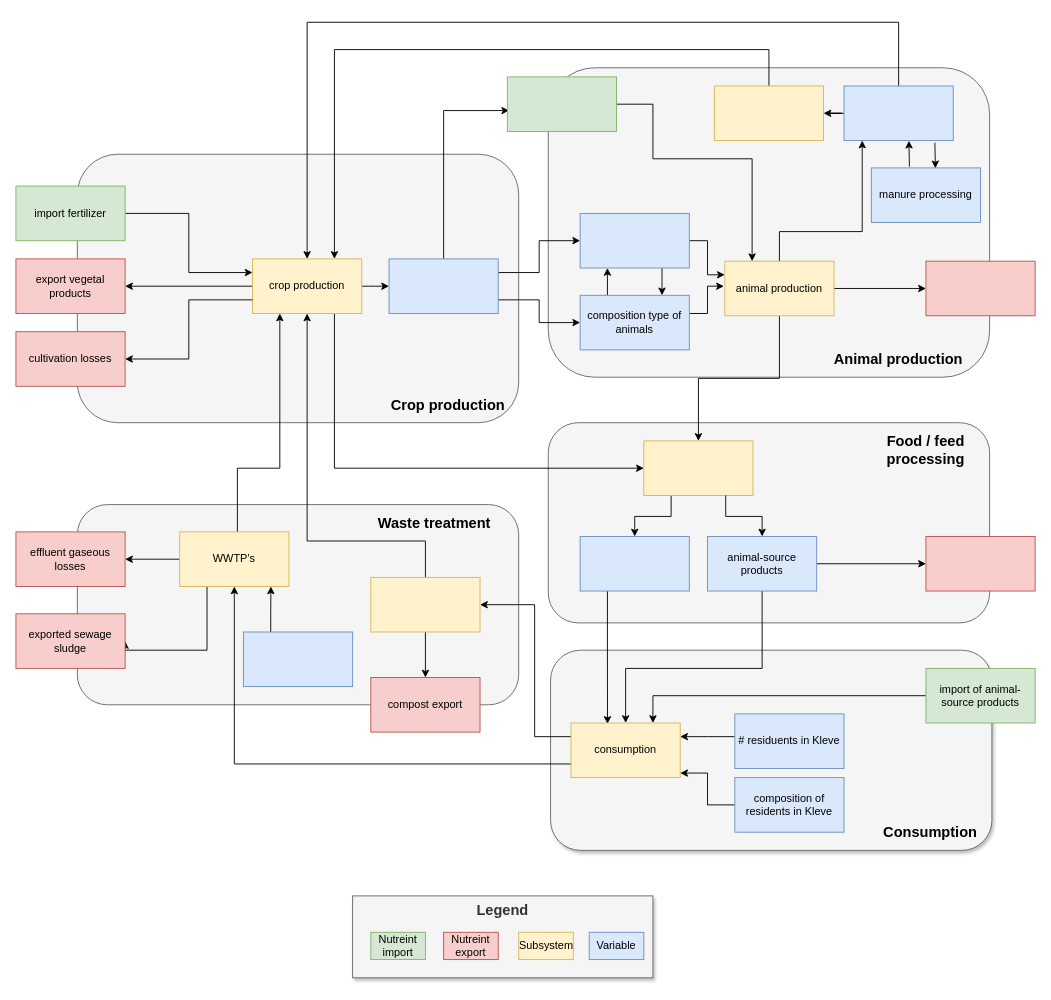
Image size: 1051x1000. Some labels were removed from this diagram. The shapes that lost their labels are listed below. From the top down, each one's centre as x and y in pixels, then its label:
the point at 561,103: feed import
the point at 768,113: Biogas plants
the point at 898,113: amount and composition of nutrients in manure
the point at 634,240: # of animals that can be fed
the point at 443,285: locally available feed
the point at 980,288: housing and storage losses
the point at 698,467: food processing
the point at 634,563: vegetal products
the point at 980,563: export of animal-sourced products
the point at 425,604: composting plant
the point at 298,659: residual procesing
